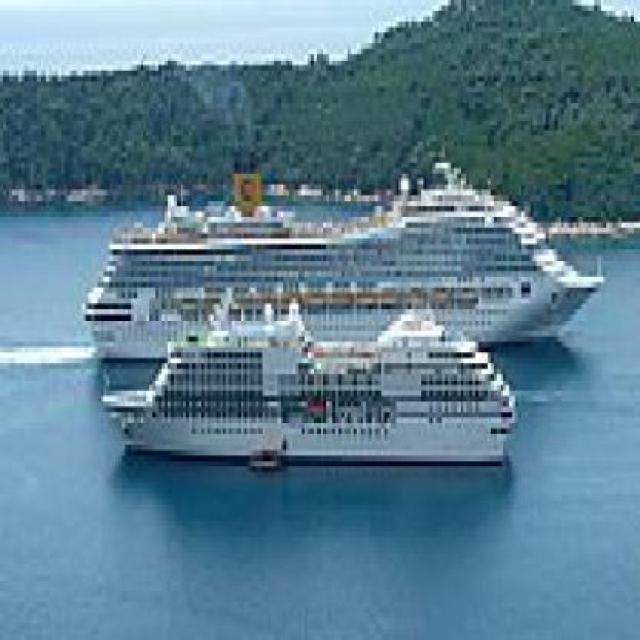cruise: (77, 152, 614, 365), (101, 311, 532, 474)
